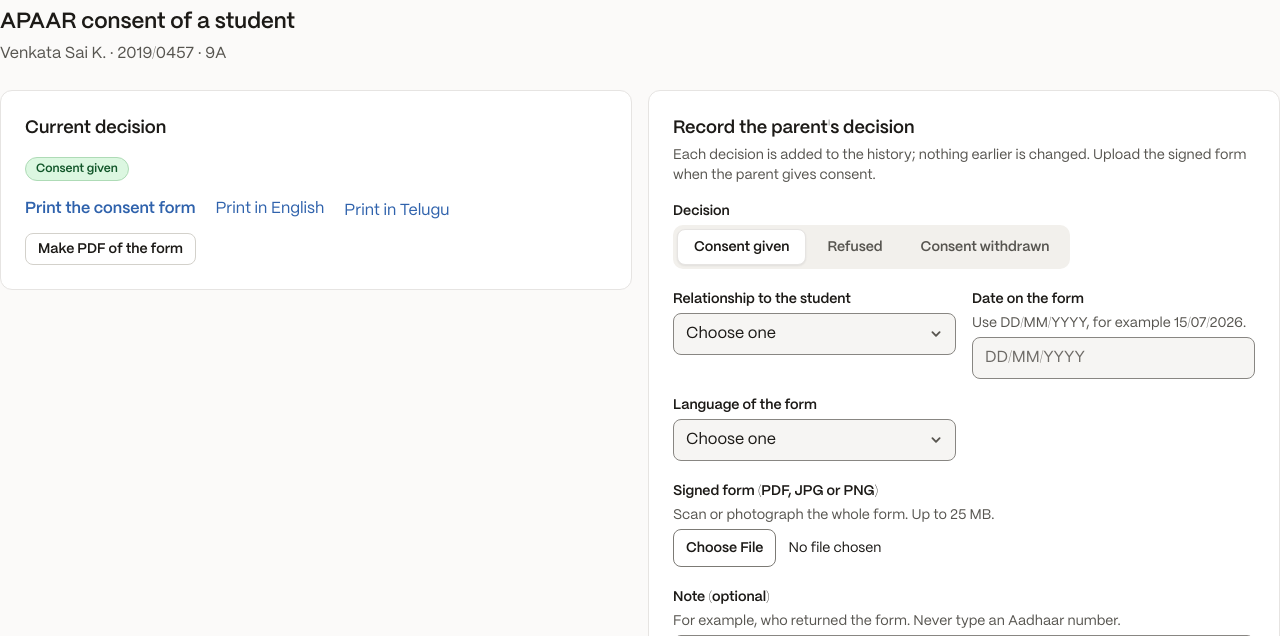
Scenario: US-1901 recording a decision › explains a refused transition from the API
Click the radio button labelled "Consent withdrawn": point(985, 247) [921, 240, 1049, 254]
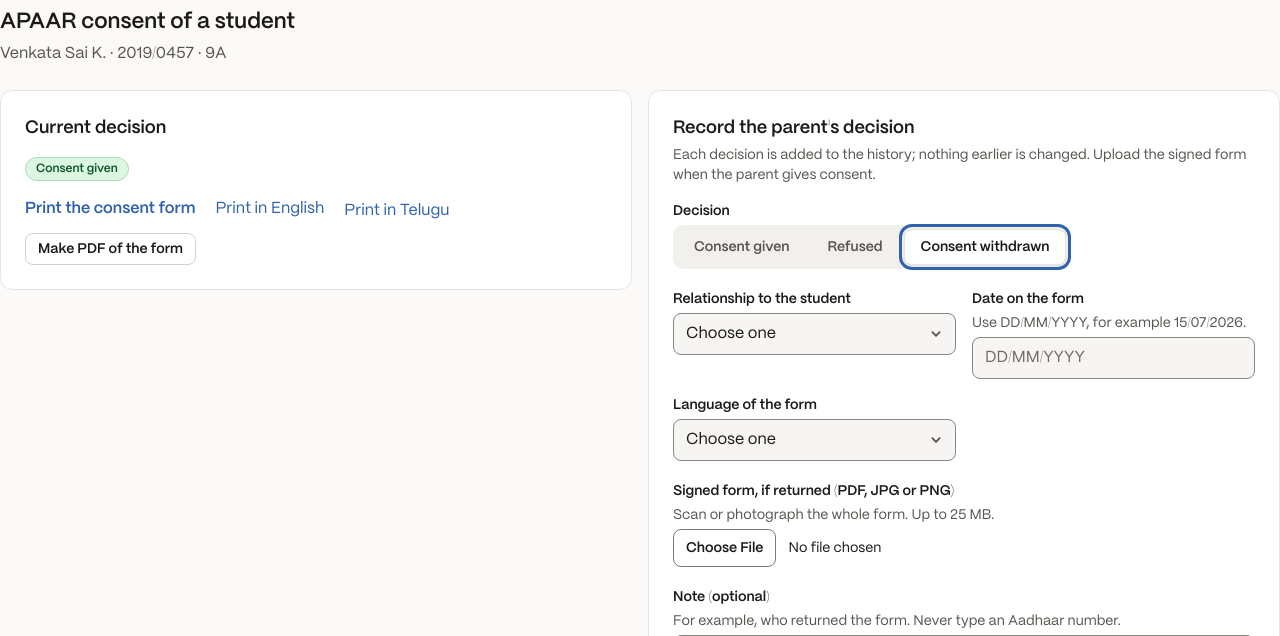
Select "Mother" in the dropdown labelled "Relationship to the student": point(814, 334) [673, 313, 956, 355]
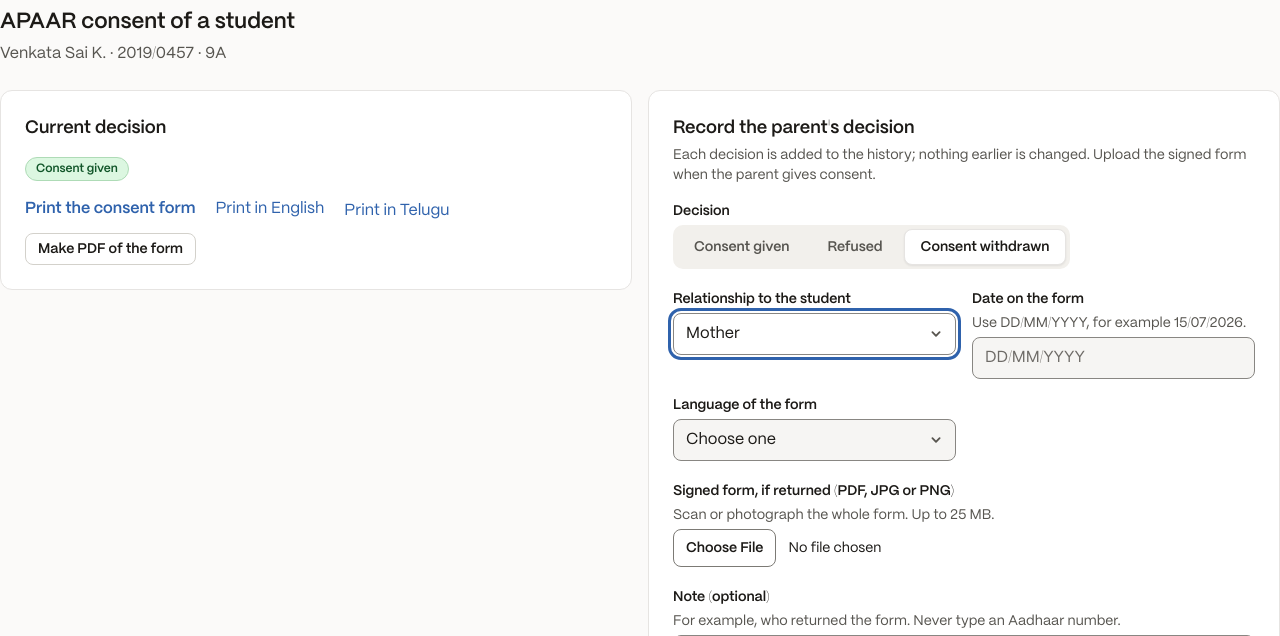
In the field labelled "Date on the form": point(1114, 358) [972, 337, 1255, 379], type "15/07/2026"
(page scrolled)
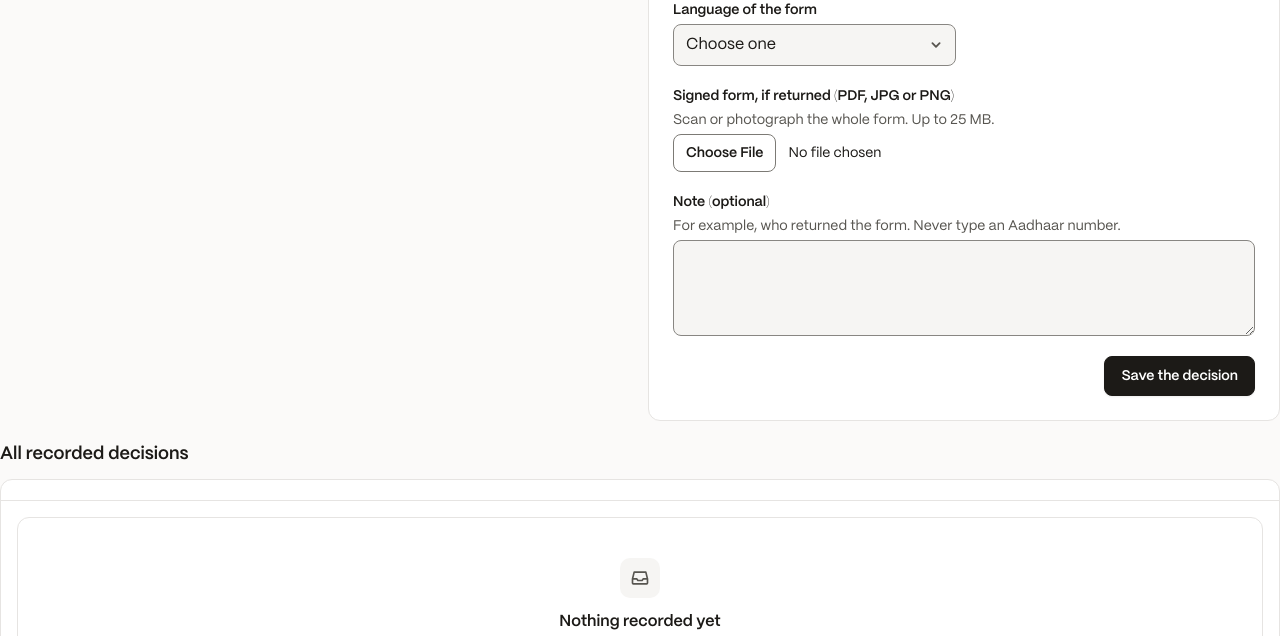
Click the button "Save the decision": point(1180, 376) [1104, 356, 1255, 396]
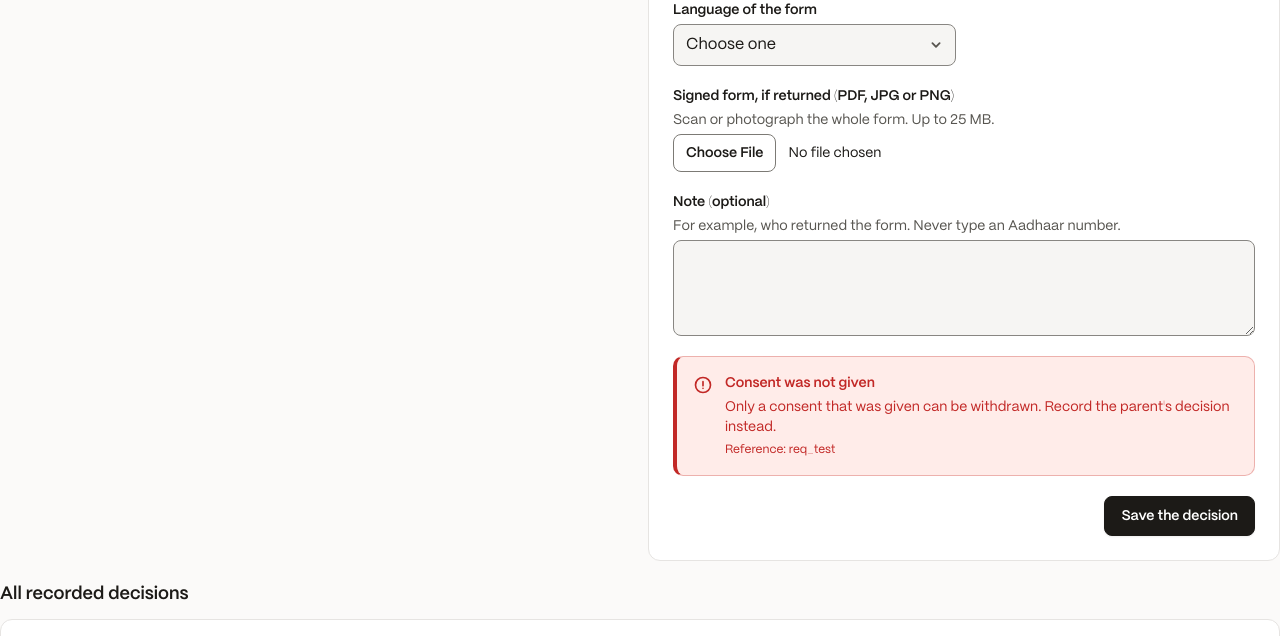
Result: the text "Consent was not given" is shown at [725, 376, 875, 390]
